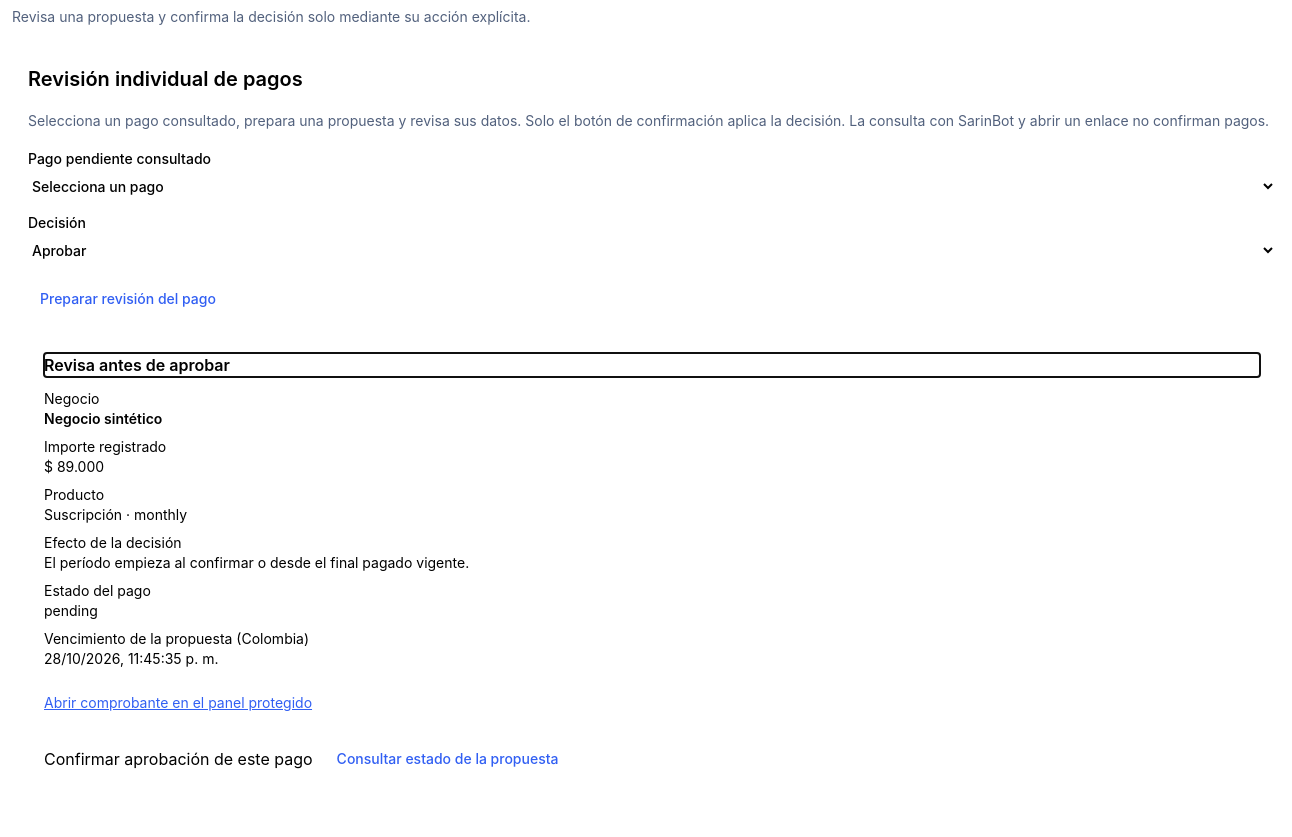
it: payment interaction and recovery › clears stale confirmation capability when real reauthentication returns cancel
The width and height of the screenshot is (1292, 837).
(page scrolled)
Click the button "Confirmar aprobación de este pago" at (178,759), box [44,737,313,781]
(page scrolled)
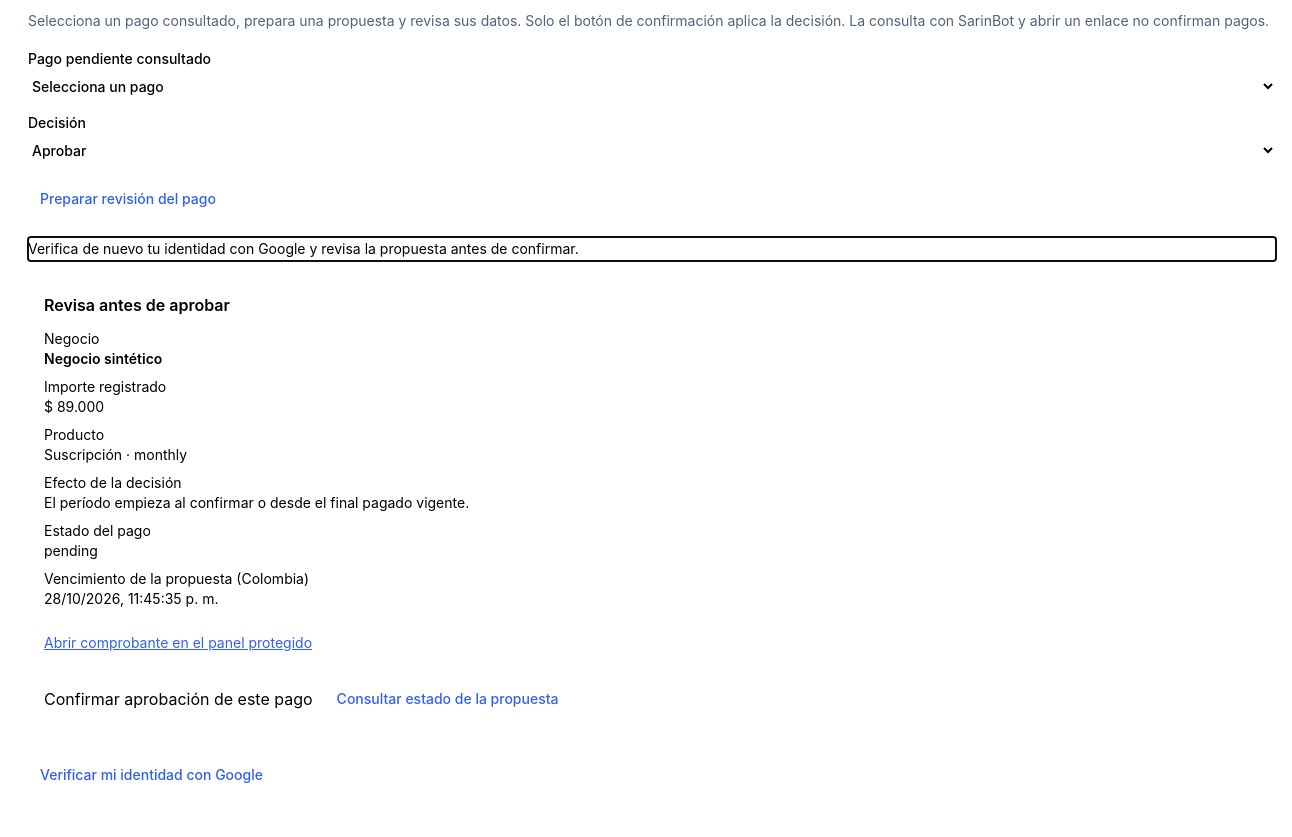
Click the button "Verificar mi identidad con Google" at (151,775), box [28,753,275,797]
(page scrolled)
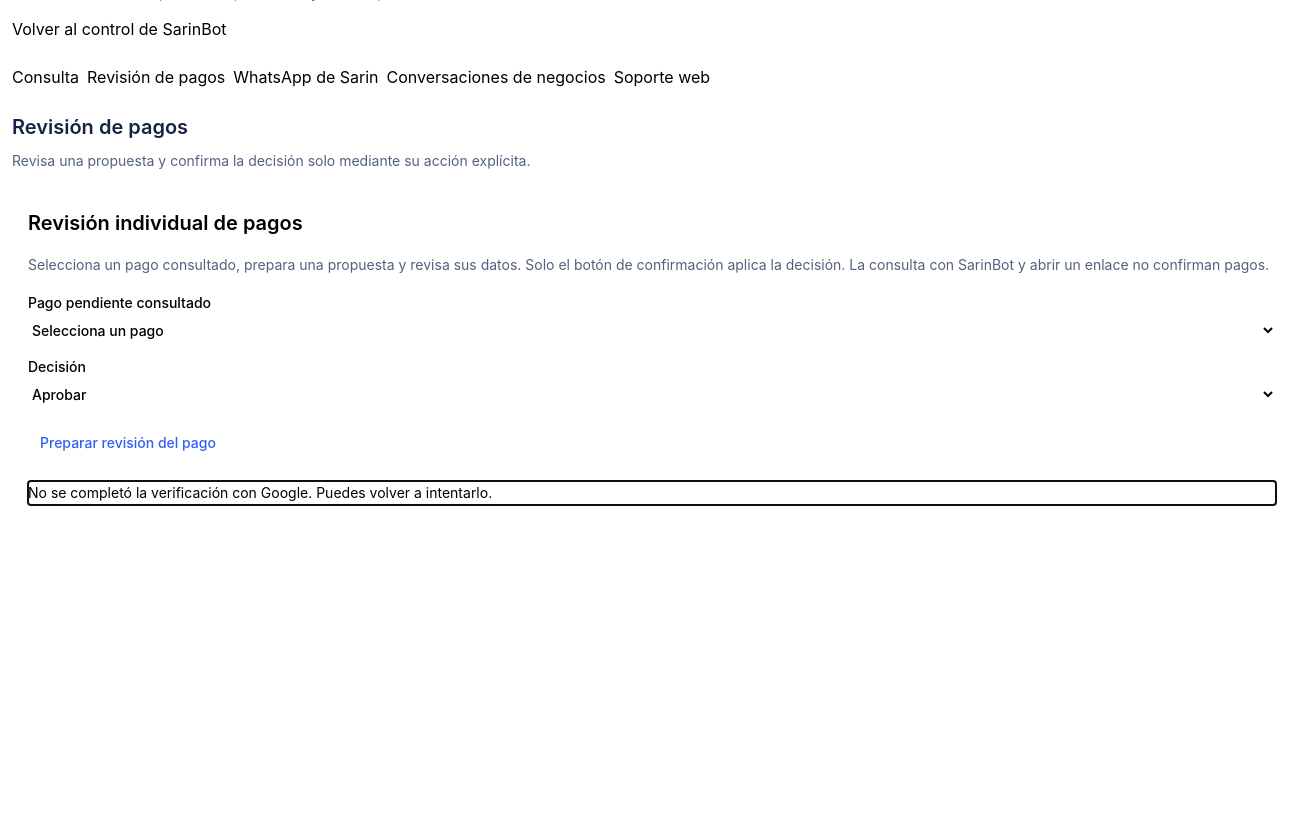
Expected: the number of messages is 1, [28,484,492,501]
Expected: the text "Negocio sintético" is gone
